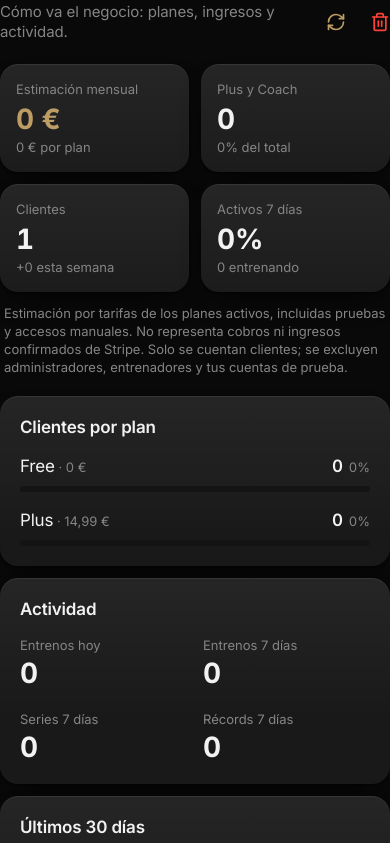
admin metrics reset › does not reset anything until the alert is confirmed
Later steps or results of the test are not shown.
Click the button named "Resetear métricas".
click(374, 22)  # box [358, 0, 389, 44]
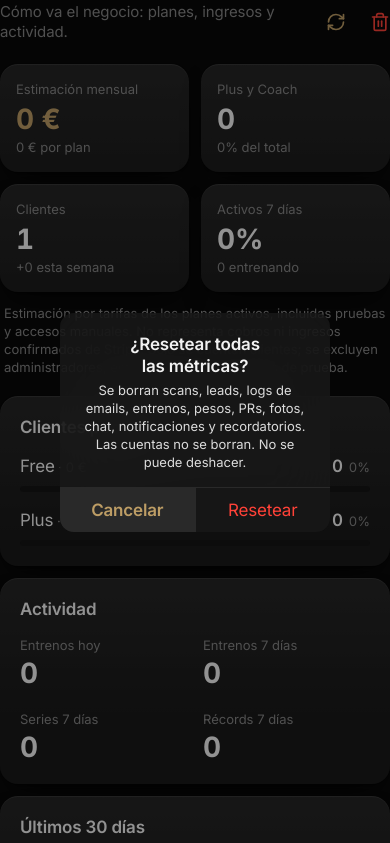
Now the heading "¿Resetear todas las métricas?" is shown, box [130, 334, 260, 376]
Click the button "Cancelar".
click(127, 510)  # box [60, 488, 194, 532]
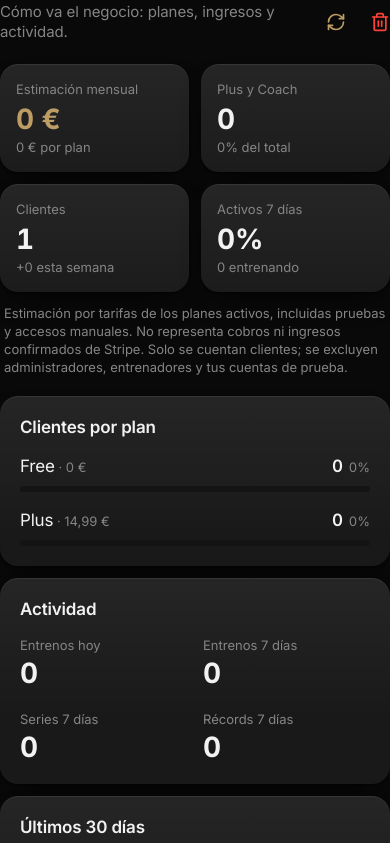
Now the heading "¿Resetear todas las métricas?" is gone
